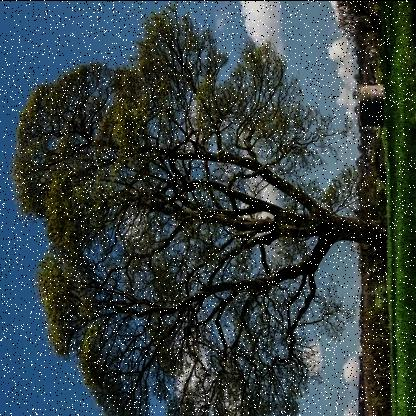Tree: (2, 2, 390, 416), (331, 1, 393, 52)
